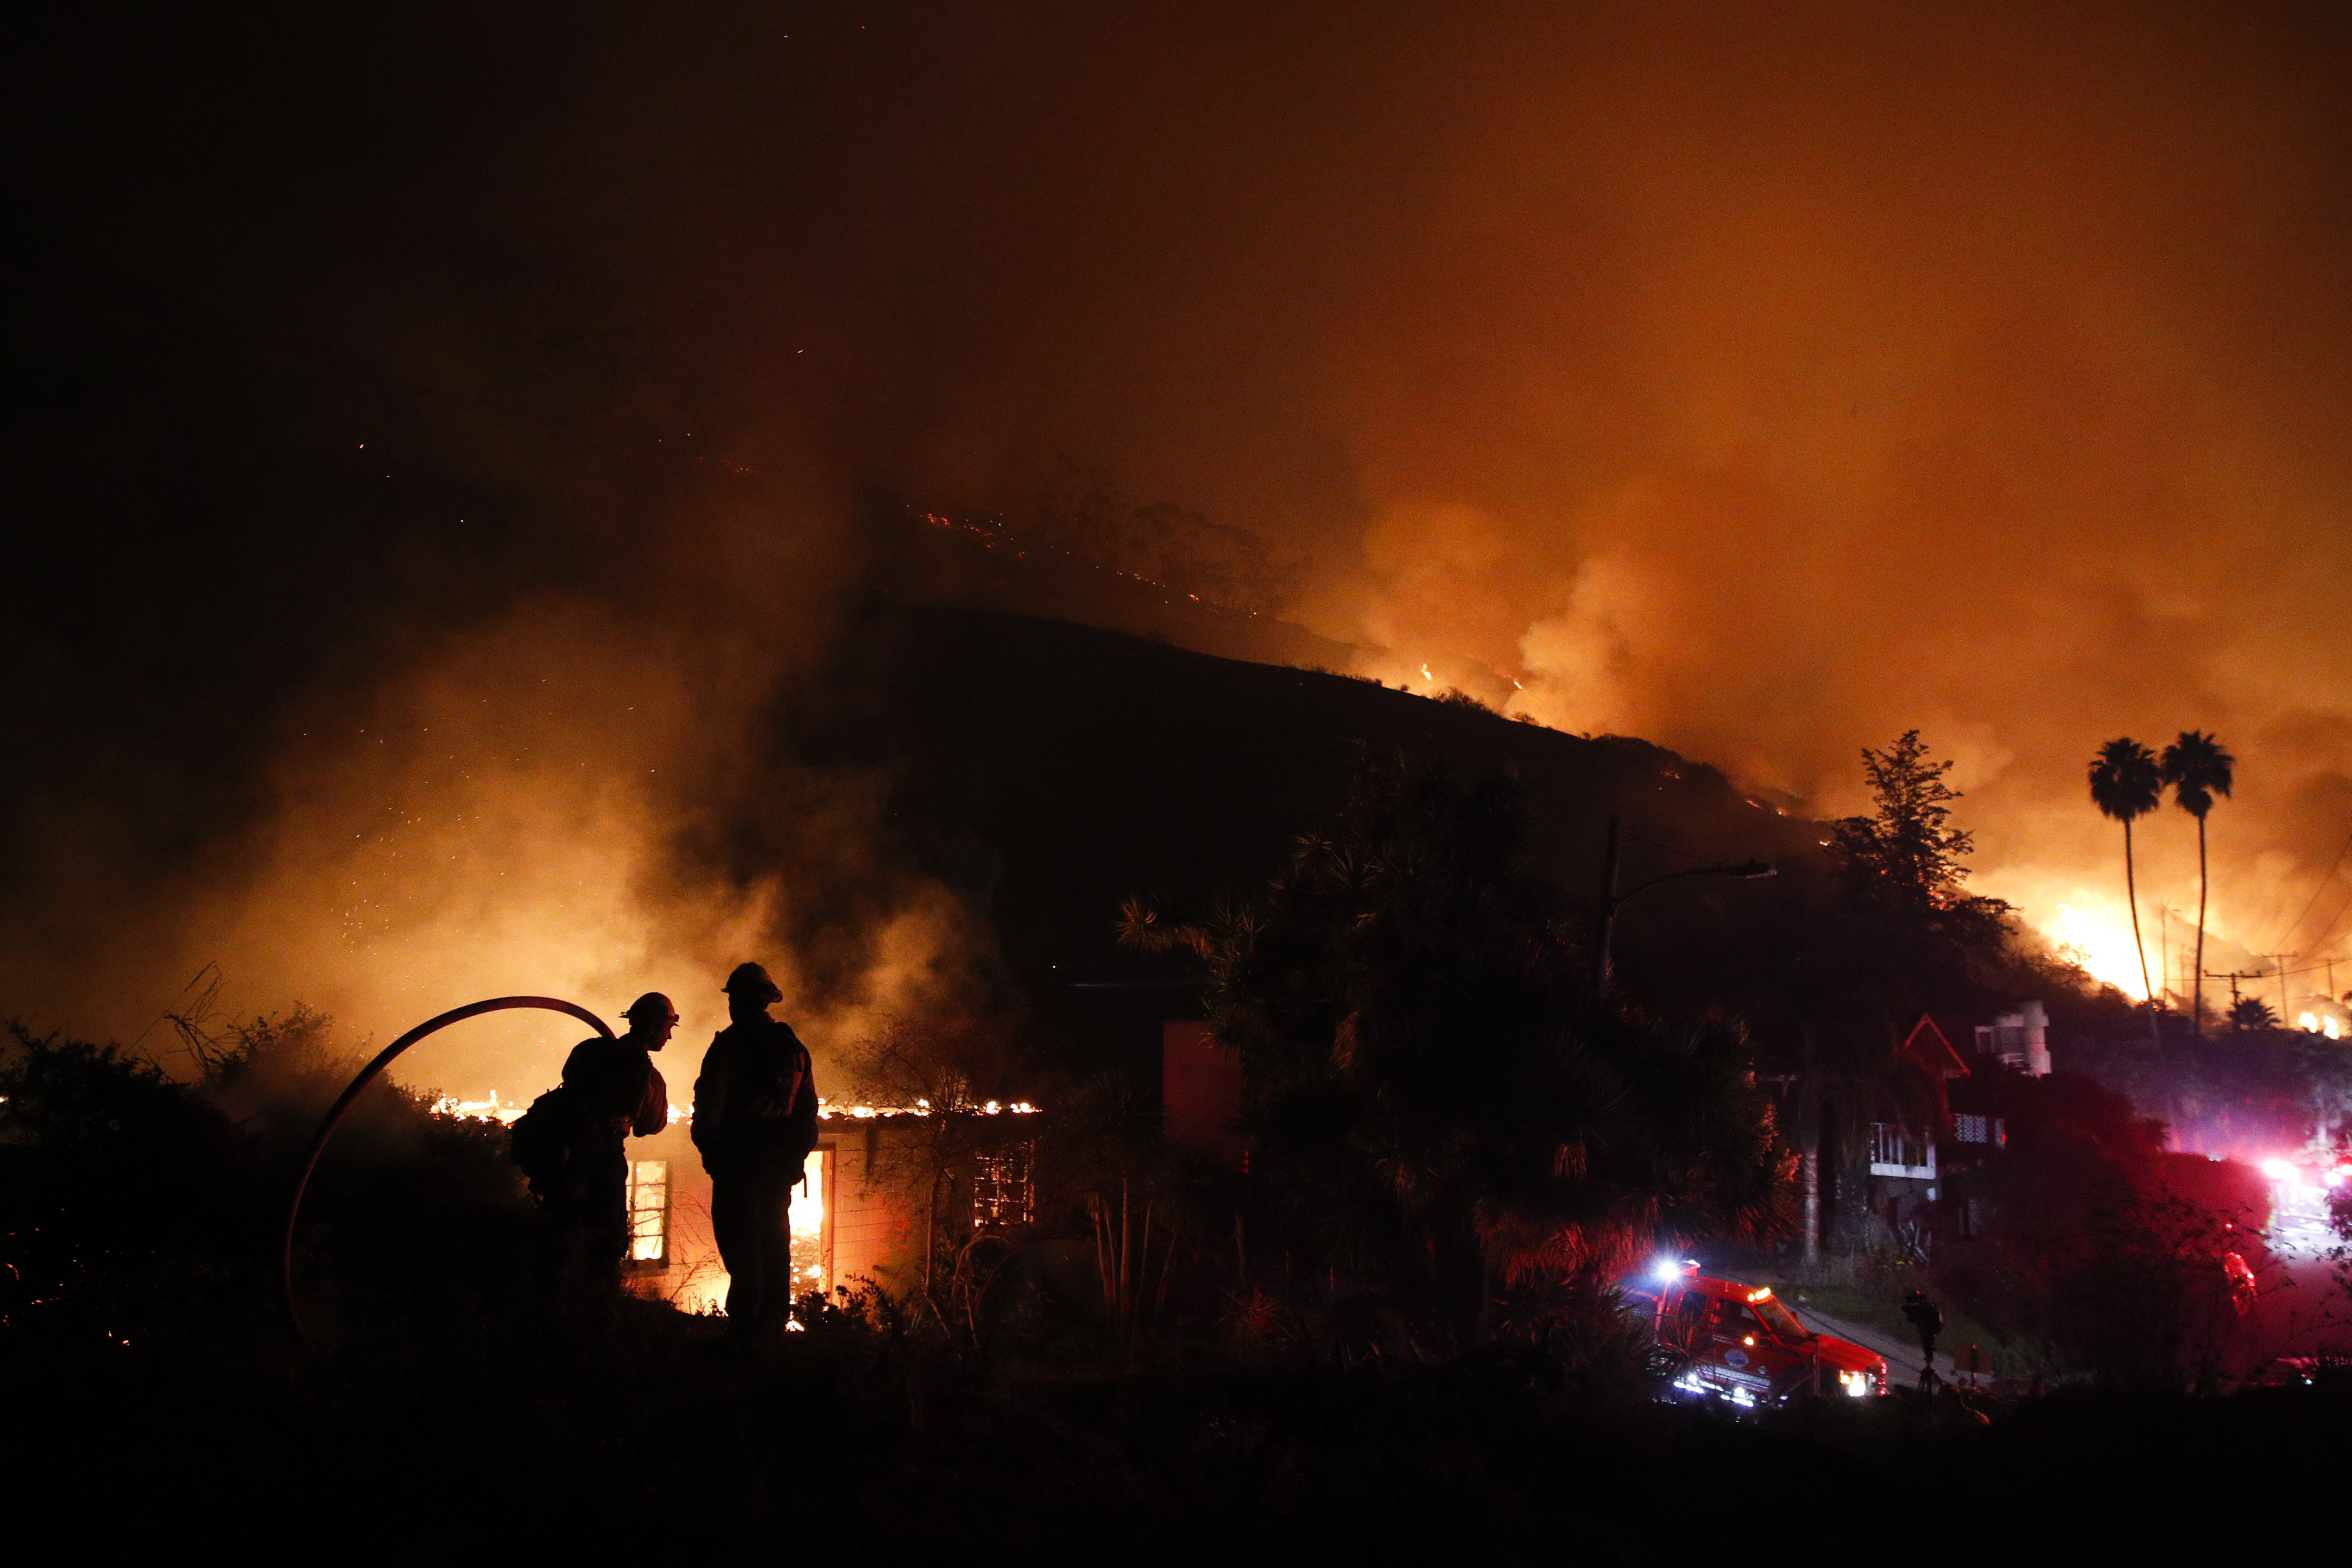Fire: (339, 835, 630, 996), (1344, 572, 1638, 716), (2044, 877, 2161, 969)
